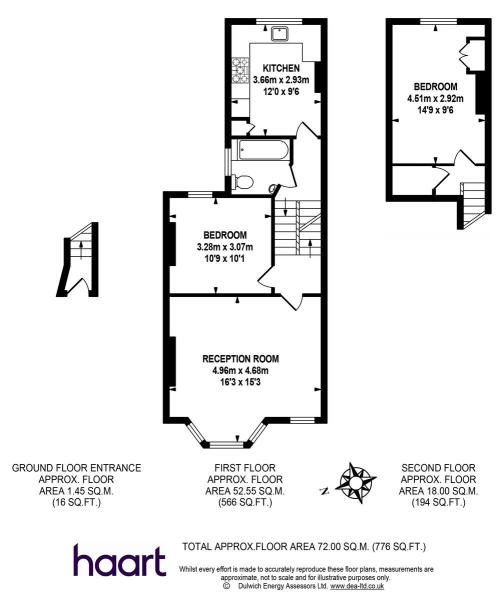GrossArea: (181, 538, 427, 554)
